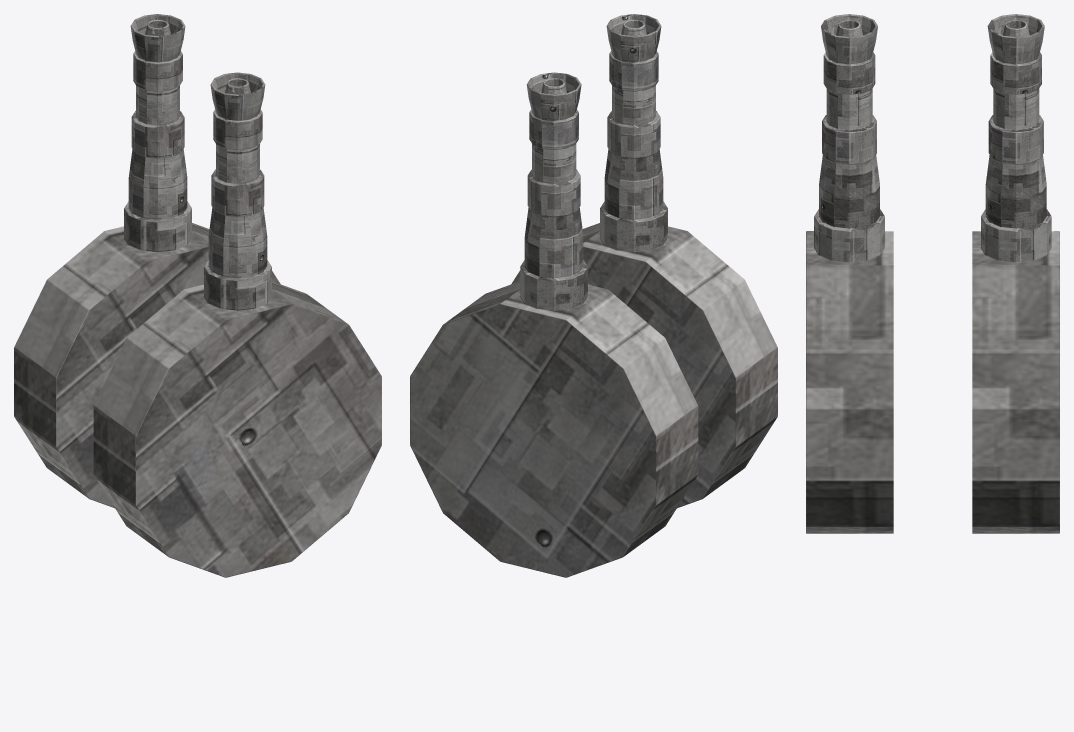
File: deathstar-tower-cannon-cannon.fbx
The picture shows the model from 3 angles, left to right: view 1: azimuth 30°, elevation 25°; view 2: azimuth 150°, elevation 25°; view 3: azimuth 270°, elevation 25°; orthographic projection. The views are drawn at different scales.
Parts seen in each view (by area): view 1: Cylinder; view 2: Cylinder; view 3: Cylinder.
Boxes of the visible parts, left/top/right/bottom form: Cylinder: left=14, top=14, right=381, bottom=577; Cylinder: left=410, top=14, right=777, bottom=577; Cylinder: left=806, top=14, right=1059, bottom=533.
Size of the model in its own units: 121 by 313 by 104.
Materials: 1 (1 with a texture image).
